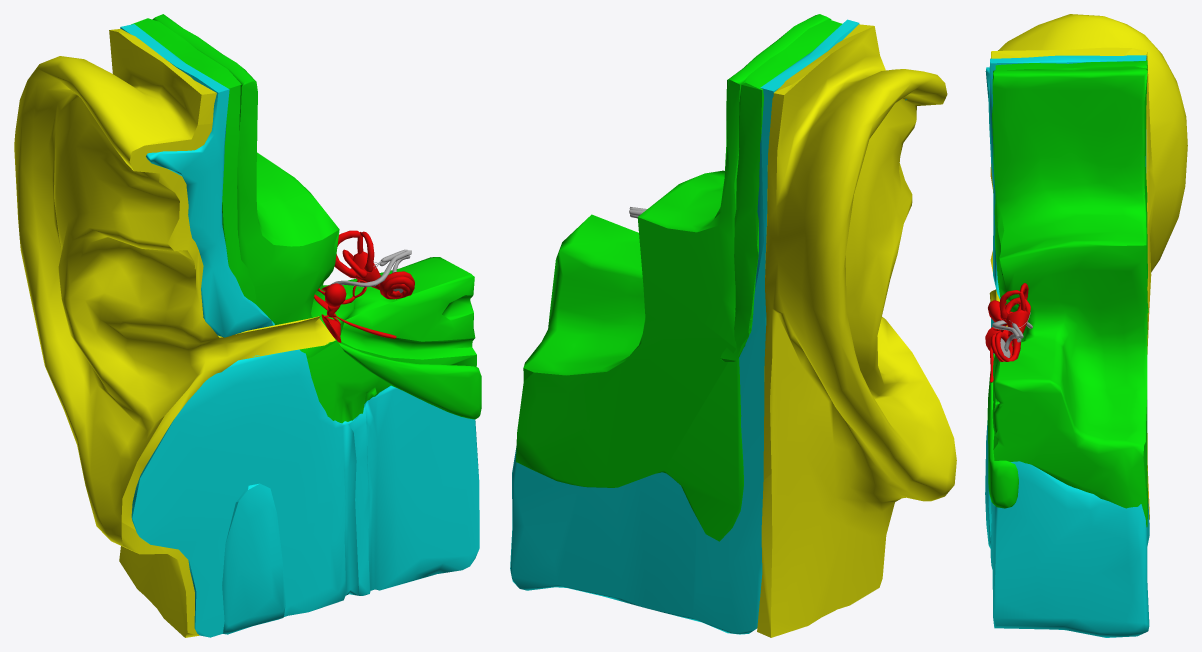
The model's file is Ear.fbx.
The picture shows the model from 3 angles, left to right: view 1: azimuth 30°, elevation 25°; view 2: azimuth 150°, elevation 25°; view 3: azimuth 270°, elevation 25°; orthographic projection. The views are drawn at different scales.
Parts seen in each view (by area): view 1: Ear, Fatty_tissue, Temporal_bone, Parotid_gland, Temporalis, Levator_veli_palatini, Cochlea; view 2: Ear, Temporal_bone, Fatty_tissue, Temporalis; view 3: Temporal_bone, Fatty_tissue, Ear, Levator_veli_palatini, Temporalis, Cochlea, Parotid_gland.
Boxes of the visible parts, x1,y1,x2,y2 form: Ear: [14, 29, 335, 637]; Fatty_tissue: [120, 24, 479, 637]; Temporal_bone: [152, 14, 476, 423]; Parotid_gland: [222, 483, 285, 634]; Temporalis: [131, 18, 256, 303]; Levator_veli_palatini: [338, 342, 481, 419]; Cochlea: [334, 230, 414, 299]; Ear: [757, 24, 956, 637]; Temporal_bone: [516, 14, 831, 541]; Fatty_tissue: [510, 19, 906, 634]; Temporalis: [720, 19, 842, 361]; Temporal_bone: [992, 68, 1147, 527]; Fatty_tissue: [985, 55, 1149, 637]; Ear: [989, 14, 1187, 519]; Levator_veli_palatini: [987, 353, 1018, 508]; Temporalis: [995, 60, 1148, 312]; Cochlea: [991, 283, 1030, 361]; Parotid_gland: [985, 420, 991, 548].
Size of the model in its own units: 5.55 by 8.02 by 3.05.
